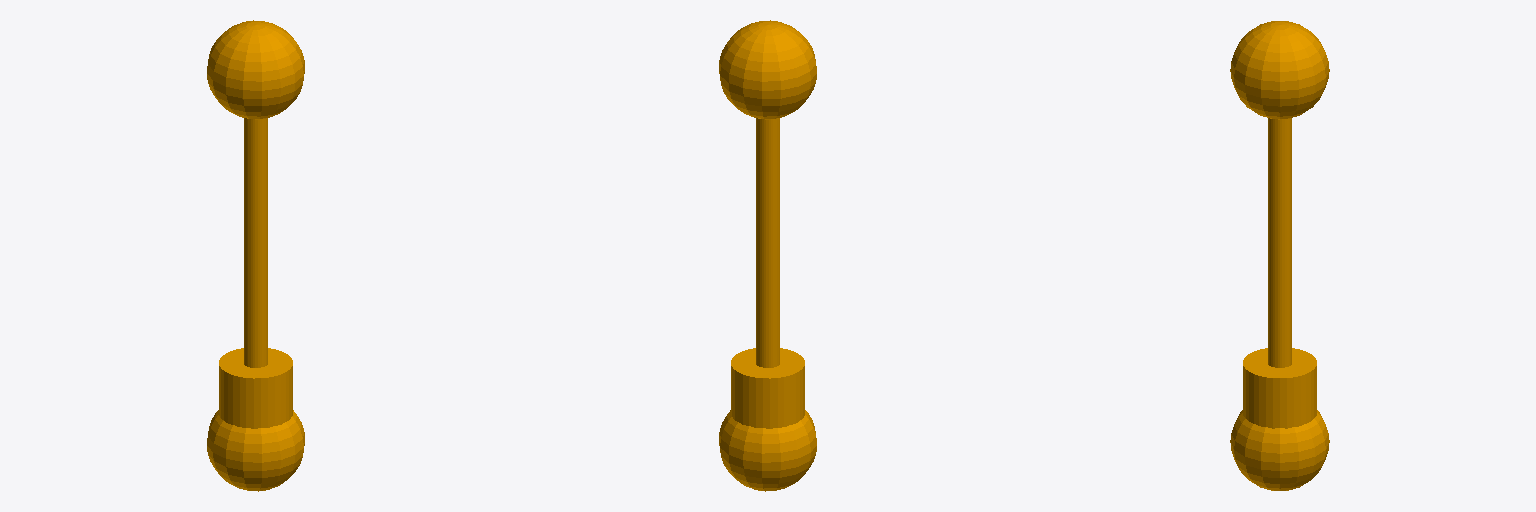
robot.urdf — simple_object:
<robot name="simple_object">
  <link name="my_object">
    <inertial>
      <origin xyz="0 0 0" />
      <mass value="1.0" />
      <inertia  ixx="0.00016" ixy="0.0"  ixz="0.0"  iyy="0.00016"  iyz="0.0"  izz="0.00016" />
    </inertial>
    <visual>
      <origin xyz="0 0 0"/>
      <geometry>
        <mesh filename="package://affordance_experiment/models/bone.dae" />
      </geometry>
    </visual>
    <collision>
      <origin xyz="0 0 0"/>
      <geometry>
        <mesh filename="package://affordance_experiment/models/bone.dae" />
      </geometry>
    </collision>
  </link>
  <gazebo reference="my_object">
    <material>Gazebo/Blue</material>
  </gazebo>
</robot>

--- Render facts (derived) ---
3 views of the same robot in one strip: view 1: azimuth 30°, elevation 25°; view 2: azimuth 150°, elevation 25°; view 3: azimuth 270°, elevation 25° (orthographic).
Robot: simple_object — 1 links, 0 joints (none); root link my_object; default pose: every joint at zero.
Visible links, largest first — view 1: my_object; view 2: my_object; view 3: my_object.
Link boxes in pixels (x1,y1,x2,y2): my_object: (207,20,304,491); my_object: (719,20,816,491); my_object: (1230,21,1329,490).
Size in the robot's own frame: 0.04 by 0.04 by 0.2052 metres.
Meshes: 1 distinct files referenced, 1 mesh visuals loaded (1 Collada DAE).